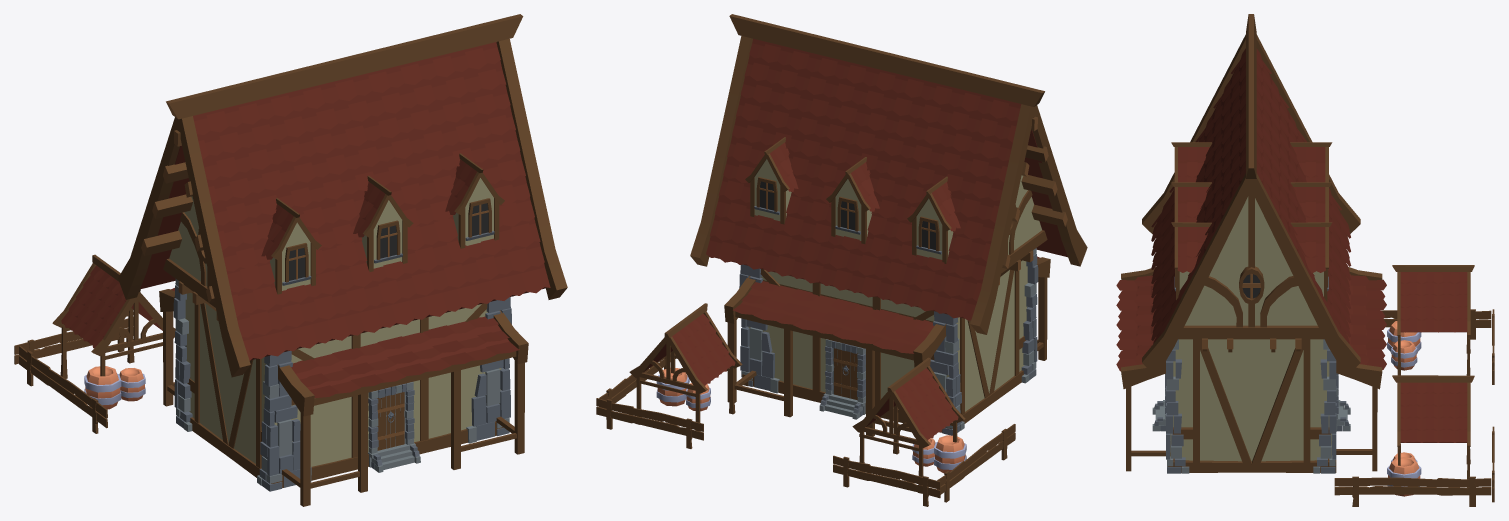
Rendered from london_tavern_3.glb.
3 renders of one model, left to right at view 1: azimuth 30°, elevation 25°; view 2: azimuth 150°, elevation 25°; view 3: azimuth 270°, elevation 25°, orthographic. The views are drawn at different scales.
Parts seen in each view (by area): view 1: Inn, Gazebo, Fence (×2), barrel (×2); view 2: Inn, Gazebo (×2), Fence (×4), barrel (×2); view 3: Inn, Gazebo (×2), Fence (×2), barrel (×3).
Part boxes in pixels (left/top/right/bottom): Inn: left=118, top=14, right=567, bottom=506; Gazebo: left=52, top=254, right=175, bottom=378; Fence (×2): left=14, top=317, right=133, bottom=433; barrel (×2): left=84, top=366, right=145, bottom=409; Inn: left=690, top=14, right=1087, bottom=436; Gazebo (×2): left=629, top=303, right=965, bottom=493; Fence (×4): left=596, top=353, right=1015, bottom=506; barrel (×2): left=656, top=368, right=966, bottom=473; Inn: left=1116, top=14, right=1386, bottom=473; Gazebo (×2): left=1392, top=265, right=1474, bottom=487; Fence (×2): left=1334, top=309, right=1491, bottom=506; barrel (×3): left=1387, top=321, right=1421, bottom=496.
Size of the model in its own units: 20.33 by 18.5 by 19.1.
Materials: 11 (1 with a texture image).
